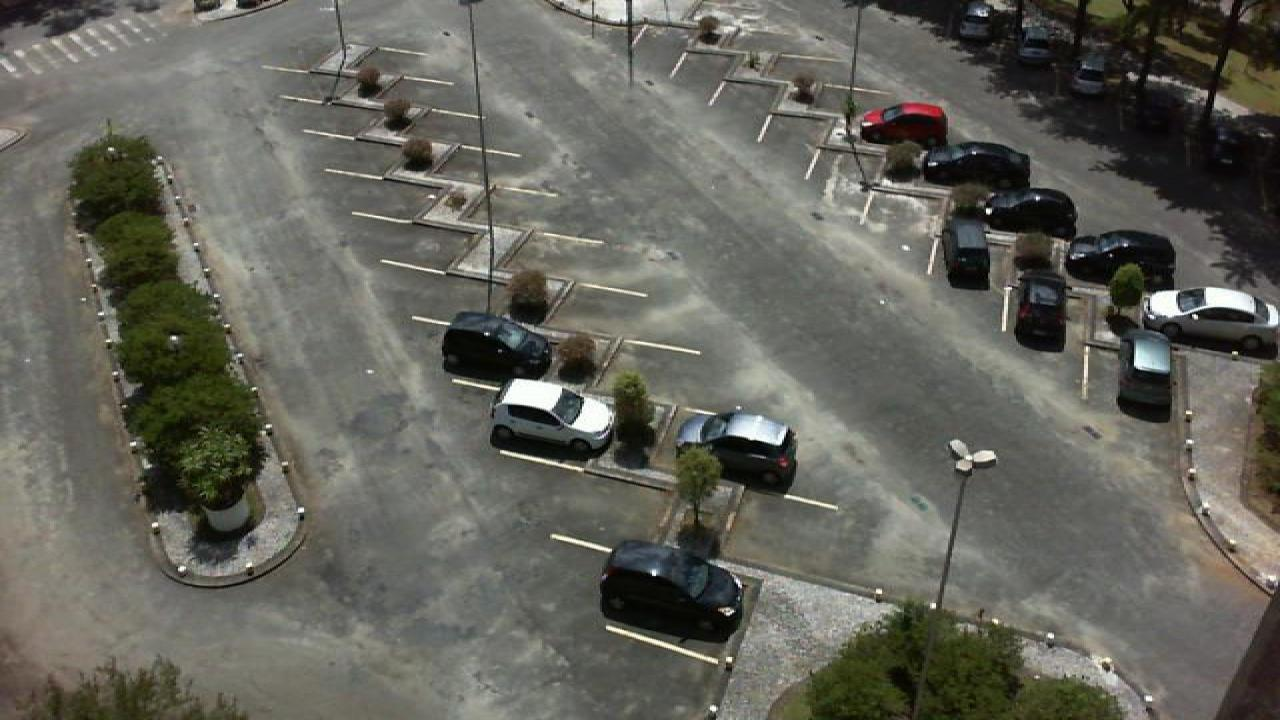Car: (598, 539, 744, 630), (488, 377, 618, 451), (1140, 283, 1280, 351), (674, 410, 798, 486), (440, 310, 556, 373), (1064, 228, 1178, 284), (1116, 326, 1176, 413), (918, 140, 1032, 184), (976, 186, 1078, 234), (856, 101, 950, 143), (1014, 274, 1070, 344), (946, 217, 992, 287), (1196, 117, 1250, 170), (1118, 76, 1170, 128), (1066, 44, 1110, 96), (1014, 13, 1058, 63), (956, 0, 1000, 42)
